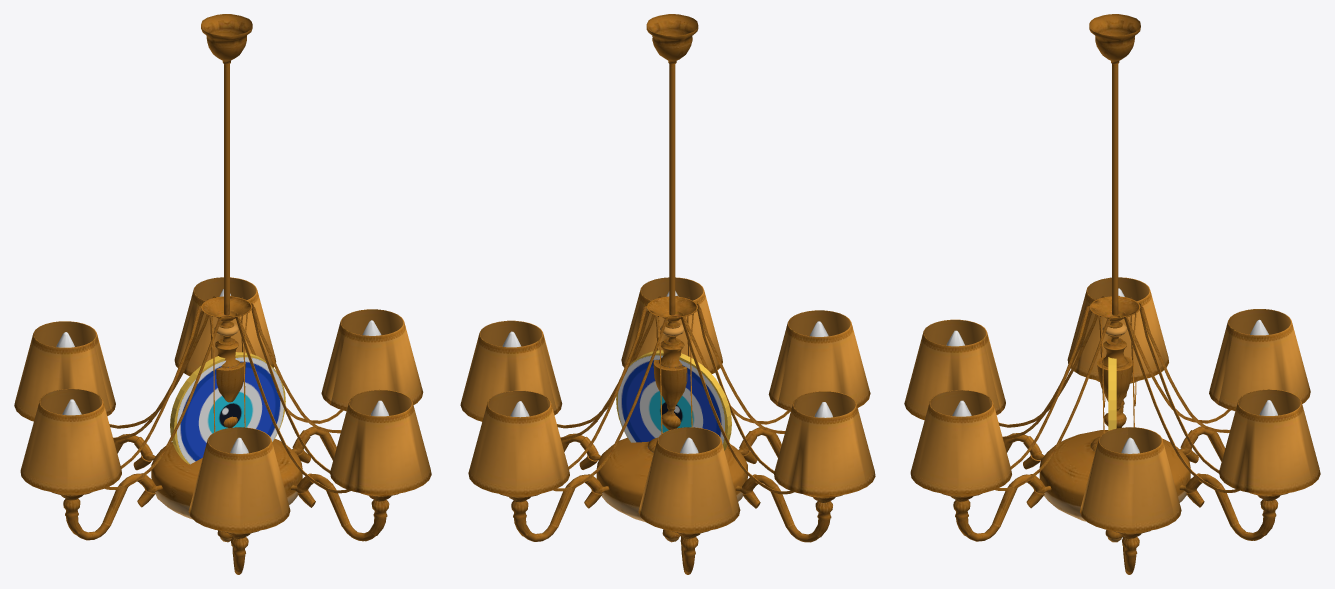
File: nyb_lobby_chandelier.glb
3 renders of one model, left to right at view 1: azimuth 30°, elevation 25°; view 2: azimuth 150°, elevation 25°; view 3: azimuth 270°, elevation 25°, orthographic.
Visible parts, largest first — view 1: Chandelier_02, add_nazar_die.png, Cylinder; view 2: Chandelier_02, add_nazar_die.png, Cylinder; view 3: Chandelier_02, Cylinder.
Part boxes in pixels (x1,y1,x2,y2): Chandelier_02: (14, 14, 431, 574); add_nazar_die.png: (177, 357, 283, 464); Cylinder: (170, 352, 285, 464); Chandelier_02: (460, 14, 875, 574); add_nazar_die.png: (618, 355, 724, 448); Cylinder: (616, 350, 731, 450); Chandelier_02: (904, 14, 1320, 574); Cylinder: (1108, 357, 1116, 430).
Size of the model in its own units: 0.6791 by 0.8481 by 0.6194.
4 materials, 2 textured.
